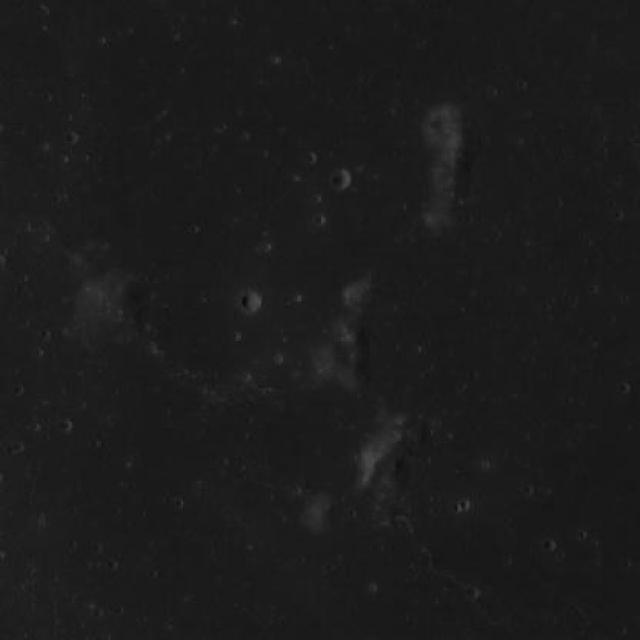crater: (430, 112, 452, 136), (241, 292, 261, 312), (332, 170, 348, 188)
